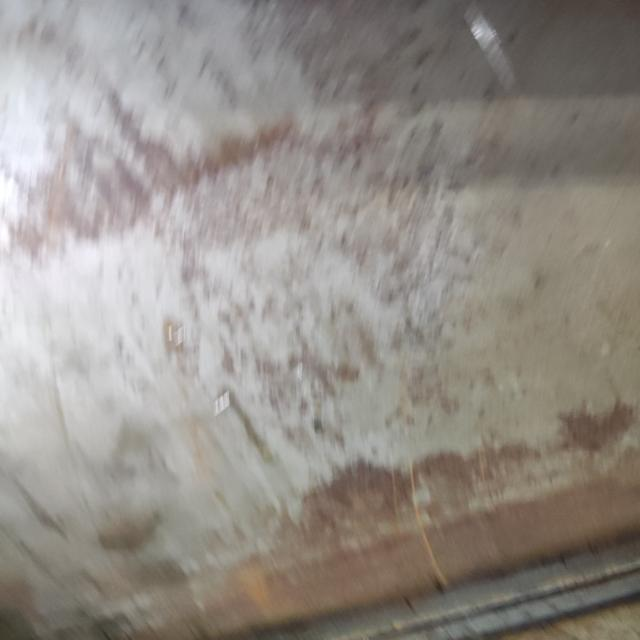seam: (169, 508, 640, 640)
